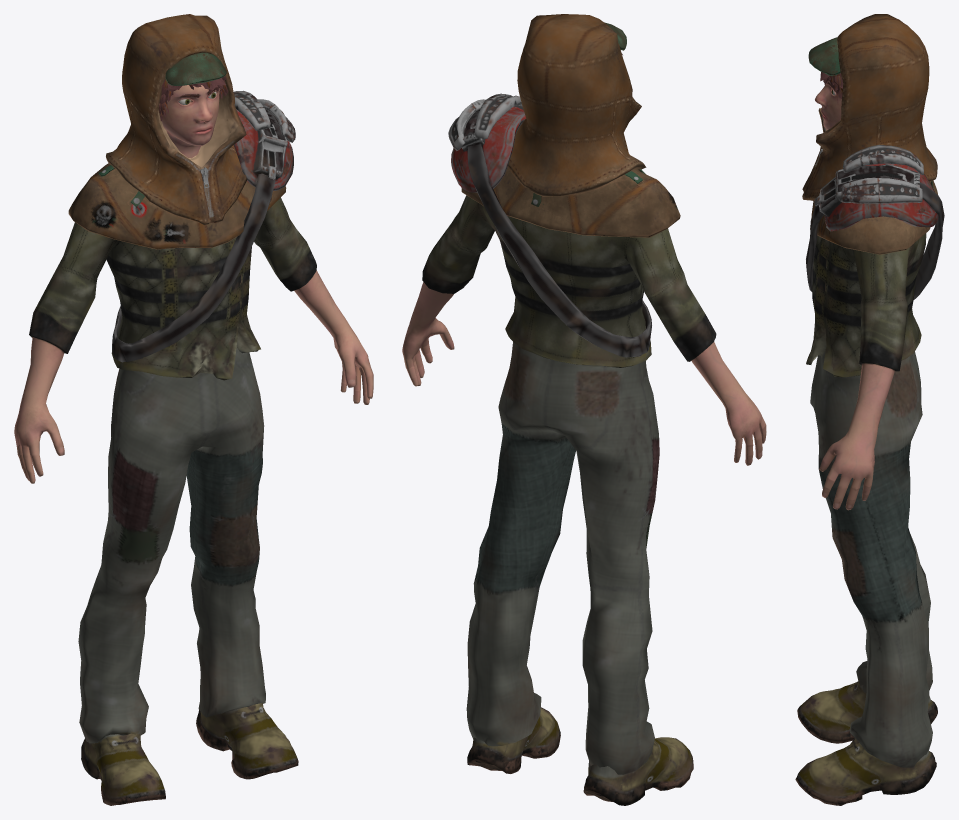
File: ANI_Clovis.fbx
3 views of the same model, side by side, from view 1: azimuth 30°, elevation 25°; view 2: azimuth 150°, elevation 25°; view 3: azimuth 270°, elevation 25° (orthographic). The views are drawn at different scales.
Visible parts, largest first — view 1: Clovis_Pants_low, Clovis_Vest_low, Clovis_cowl_low, Clovis_body_low, Clovis_duster_low, Clovis_StrapLoop_low, Clovis_Boot_Left_low, Clovis_Boot_Right_low, Clovis_Pauldron_low, Clovis_CowlBill_low, Clovis_Bracers_low, Clovis_Hair; view 2: Clovis_Pants_low, Clovis_Vest_low, Clovis_cowl_low, Clovis_duster_low, Clovis_body_low, Clovis_StrapLoop_low, Clovis_Boot_Right_low, Clovis_Pauldron_low, Clovis_Boot_Left_low, Clovis_Bracers_low; view 3: Clovis_Pants_low, Clovis_cowl_low, Clovis_Vest_low, Clovis_body_low, Clovis_Boot_Left_low, Clovis_Pauldron_low, Clovis_Bracers_low, Clovis_Boot_Right_low, Clovis_duster_low, Clovis_StrapLoop_low, Clovis_CowlBill_low, Clovis_Hair.
Part boxes in pixels (x1,y1,x2,y2): Clovis_Pants_low: (78, 347, 265, 743); Clovis_Vest_low: (29, 197, 316, 380); Clovis_cowl_low: (106, 14, 246, 225); Clovis_body_low: (14, 85, 373, 483); Clovis_duster_low: (68, 155, 286, 249); Clovis_StrapLoop_low: (112, 173, 275, 362); Clovis_Boot_Left_low: (196, 703, 298, 779); Clovis_Boot_Right_low: (81, 729, 165, 805); Clovis_Pauldron_low: (233, 109, 293, 190); Clovis_CowlBill_low: (165, 52, 226, 85); Clovis_Bracers_low: (233, 90, 295, 142); Clovis_Hair: (158, 75, 228, 121); Clovis_Pants_low: (466, 342, 659, 774); Clovis_Vest_low: (422, 195, 716, 367); Clovis_cowl_low: (507, 14, 646, 196); Clovis_duster_low: (461, 167, 680, 237); Clovis_body_low: (402, 282, 766, 465); Clovis_StrapLoop_low: (467, 144, 651, 357); Clovis_Boot_Right_low: (583, 737, 693, 805); Clovis_Pauldron_low: (451, 105, 526, 192); Clovis_Boot_Left_low: (467, 707, 560, 773); Clovis_Bracers_low: (448, 93, 522, 150); Clovis_Pants_low: (810, 352, 932, 767); Clovis_cowl_low: (802, 14, 937, 200); Clovis_Vest_low: (806, 233, 926, 377); Clovis_body_low: (815, 80, 894, 510); Clovis_Boot_Left_low: (795, 738, 936, 805); Clovis_Pauldron_low: (814, 163, 938, 231); Clovis_Bracers_low: (841, 144, 923, 203); Clovis_Boot_Right_low: (797, 681, 937, 743); Clovis_duster_low: (810, 180, 937, 254); Clovis_StrapLoop_low: (806, 182, 944, 299); Clovis_CowlBill_low: (808, 37, 840, 75); Clovis_Hair: (820, 72, 843, 102).
Bounding box in the file's own units: 83.63 × 173 × 31.79.
